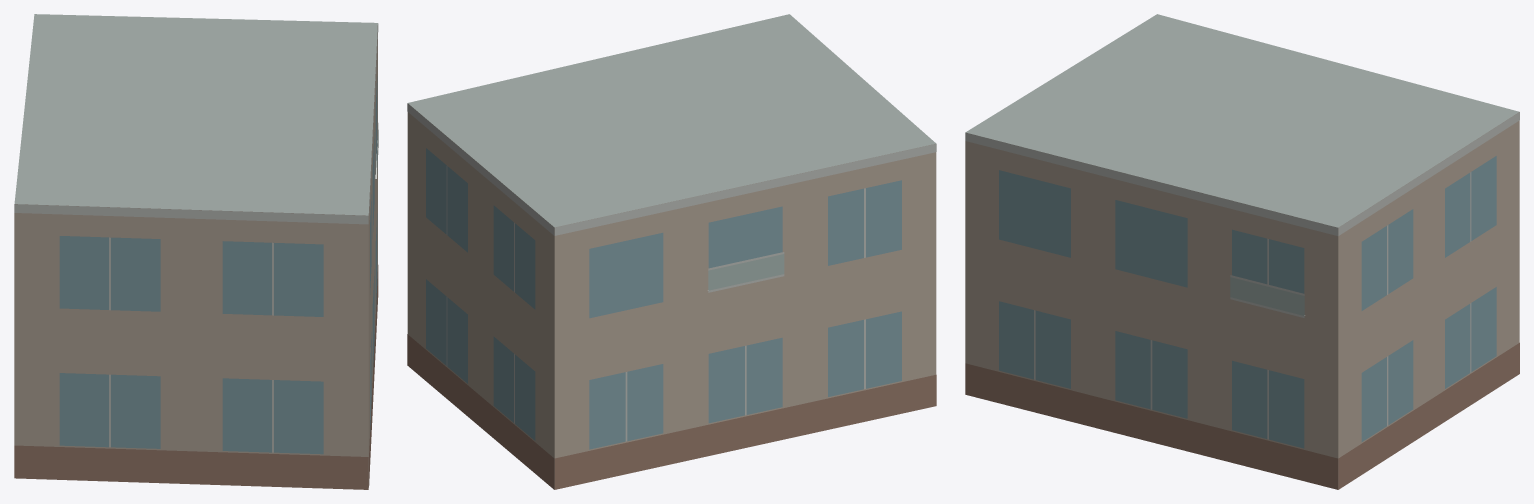
File: survey-upis-32887799.glb
3 renders of one model, left to right at view 1: azimuth 30°, elevation 25°; view 2: azimuth 150°, elevation 25°; view 3: azimuth 270°, elevation 25°, orthographic. The views are drawn at different scales.
Parts seen in each view (by area): view 1: survey-upis-32887799.tmp; view 2: survey-upis-32887799.tmp; view 3: survey-upis-32887799.tmp.
Part boxes in pixels (x1,y1,x2,y2): survey-upis-32887799.tmp: (14, 14, 378, 489); survey-upis-32887799.tmp: (407, 14, 936, 489); survey-upis-32887799.tmp: (965, 14, 1519, 489).
Bounding box in the file's own units: 13.12 × 7.5 × 14.38.
